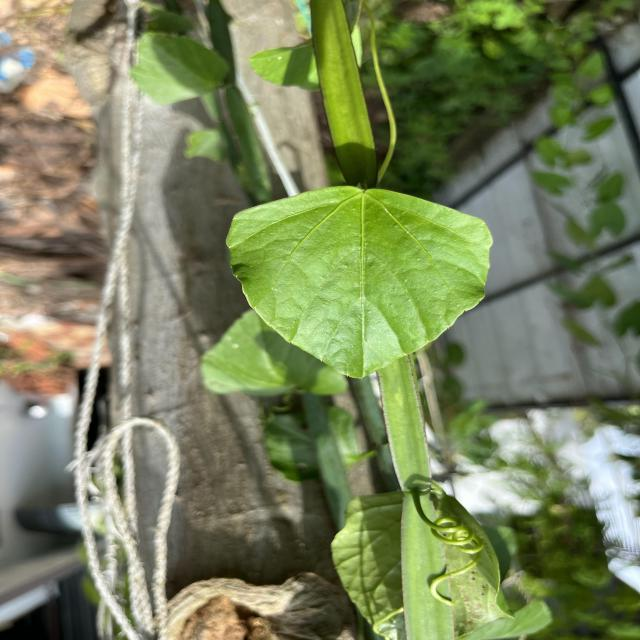Cissus quadrangularis: (224, 183, 496, 383)
